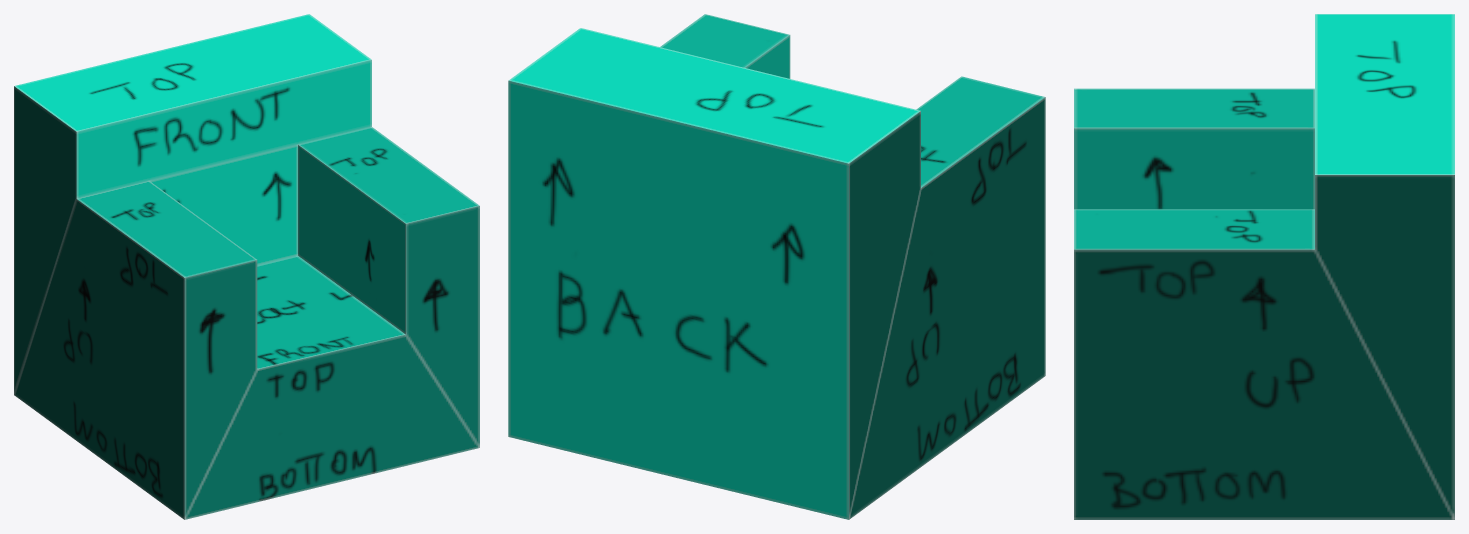
The model's file is hs_chair.fbx.
3 renders of one model, left to right at view 1: azimuth 30°, elevation 25°; view 2: azimuth 150°, elevation 25°; view 3: azimuth 270°, elevation 25°, orthographic. The views are drawn at different scales.
Parts seen in each view (by area): view 1: chair; view 2: chair; view 3: chair.
Boxes of the visible parts, x1,y1,x2,y2 form: chair: (14,14,479,519); chair: (508,14,1045,519); chair: (1074,14,1454,519).
Size of the model in its own units: 28.86 by 28.86 by 28.86.
